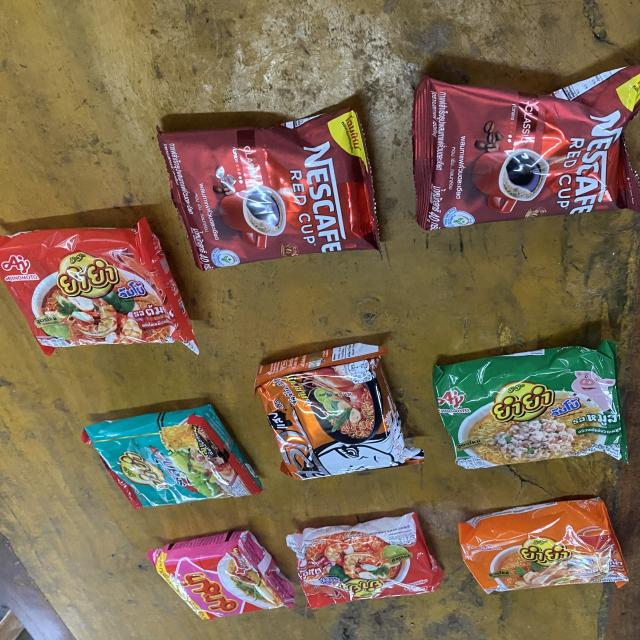plastik: (413, 65, 640, 230), (157, 107, 380, 270), (0, 218, 199, 355), (433, 340, 628, 468), (255, 343, 424, 479), (81, 404, 261, 510), (458, 498, 628, 594), (287, 512, 444, 608), (148, 531, 295, 619)
